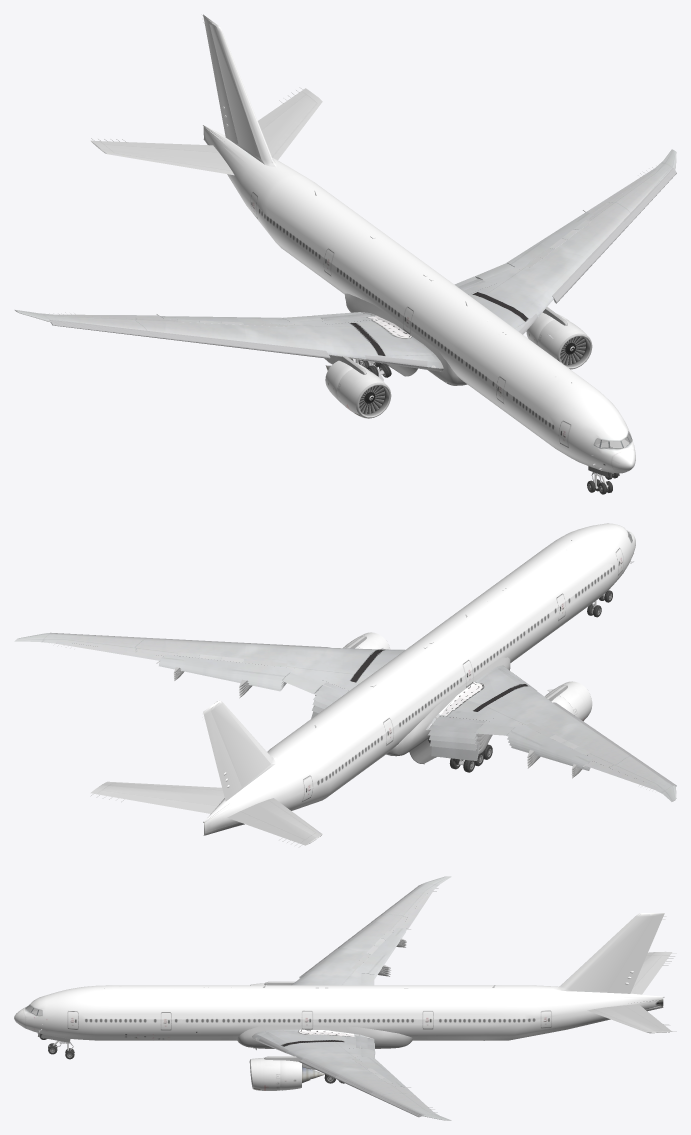
File: white.gltf
3 views of the same model, one above another, from view 1: azimuth 30°, elevation 25°; view 2: azimuth 150°, elevation 25°; view 3: azimuth 270°, elevation 25° (orthographic). The views are drawn at different scales.
Visible parts, largest first — view 1: Exterior, Pose_flaps_0, Pose_flaps_4; view 2: Exterior, Pose_flaps_0, Pose_flaps_1, Pose_flaps_4, Pose_flaps_2, Pose_flaps_3, Pose_gear_3; view 3: Exterior, Pose_flaps_0, Pose_flaps_4, Pose_flaps_1.
Part boxes in pixels (x1,y1,x2,y2): Exterior: (14, 14, 676, 473); Pose_flaps_0: (49, 168, 674, 353); Pose_flaps_4: (52, 172, 676, 358); Exterior: (14, 523, 676, 847); Pose_flaps_0: (49, 633, 674, 785); Pose_flaps_1: (159, 647, 674, 784); Pose_flaps_4: (159, 665, 676, 786); Pose_flaps_2: (159, 647, 675, 785); Pose_flaps_3: (159, 647, 676, 785); Pose_gear_3: (449, 600, 601, 772); Exterior: (14, 876, 676, 1120); Pose_flaps_0: (303, 883, 423, 1115); Pose_flaps_4: (299, 885, 419, 1117); Pose_flaps_1: (302, 885, 421, 1116).
Size of the model in its own units: 64.8 by 18.59 by 74.37.
37 materials, 36 textured.
